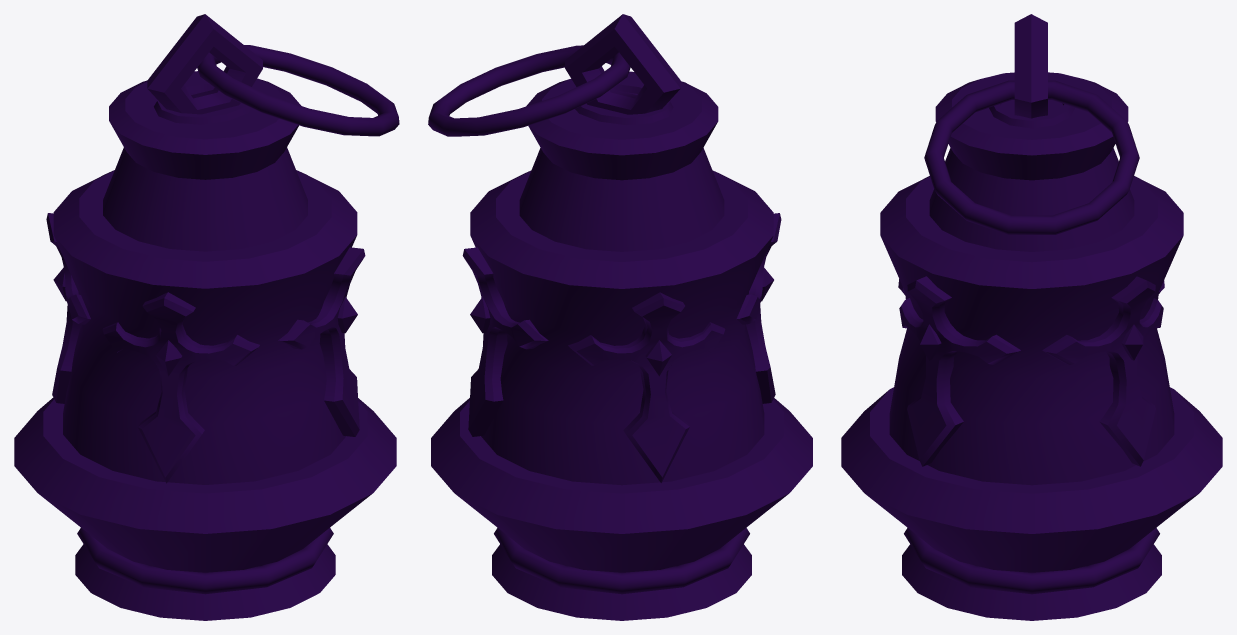
The model's file is ring_down.obj.
3 views of the same model, side by side, from view 1: azimuth 30°, elevation 25°; view 2: azimuth 150°, elevation 25°; view 3: azimuth 270°, elevation 25° (orthographic).
Parts seen in each view (by area): view 1: Cylinder001FBXASC046004 Lamps FullDungeon; view 2: Cylinder001FBXASC046004 Lamps FullDungeon; view 3: Cylinder001FBXASC046004 Lamps FullDungeon.
Boxes of the visible parts, <box> form: Cylinder001FBXASC046004 Lamps FullDungeon: <box>14,14,399,620</box>; Cylinder001FBXASC046004 Lamps FullDungeon: <box>428,14,812,620</box>; Cylinder001FBXASC046004 Lamps FullDungeon: <box>841,14,1222,620</box>.
Bounding box in the file's own units: 286 × 437 × 274.
